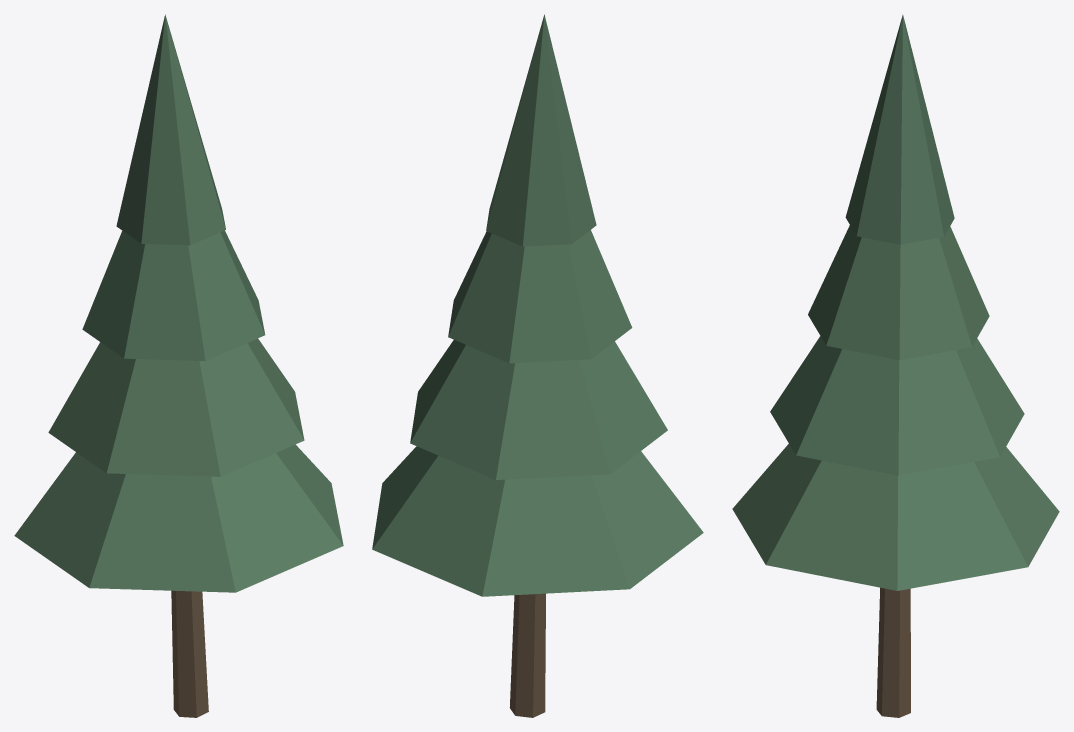
3 renders of one model, left to right at view 1: azimuth 30°, elevation 25°; view 2: azimuth 150°, elevation 25°; view 3: azimuth 270°, elevation 25°, orthographic. The views are drawn at different scales.
Parts seen in each view (by area): view 1: Tree; view 2: Tree; view 3: Tree.
Boxes of the visible parts, x1,y1,x2,y2 form: Tree: (14, 14, 343, 717); Tree: (372, 14, 703, 717); Tree: (732, 14, 1059, 717).
Bounding box in the file's own units: 181 × 429 × 185.
